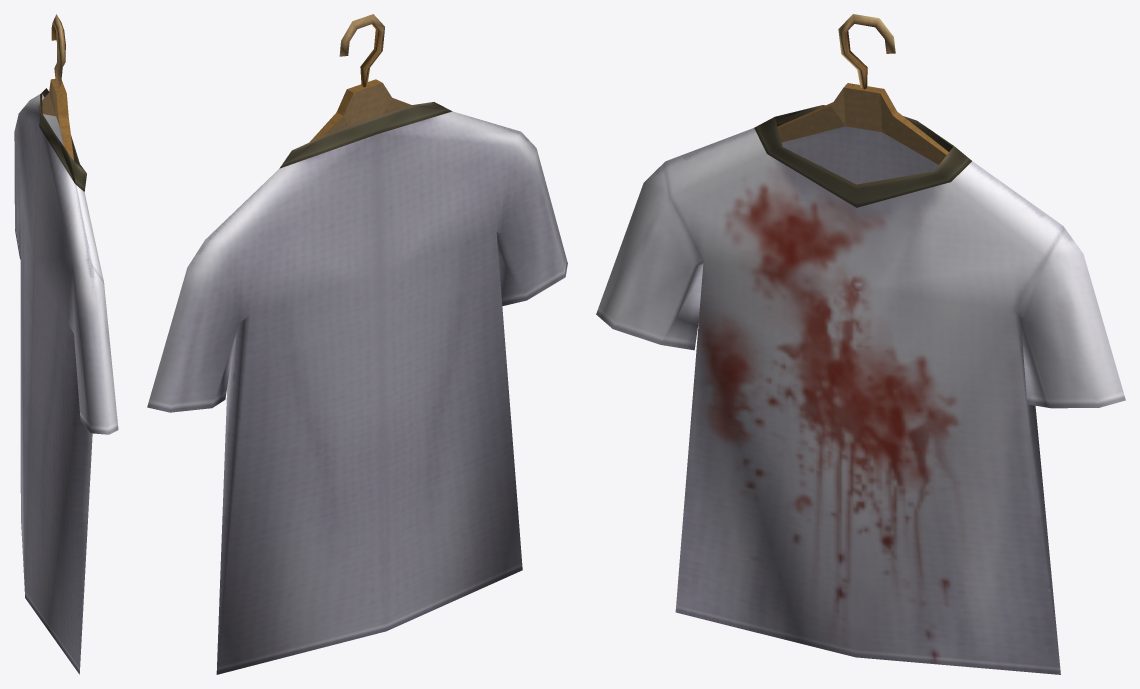
File: ShaShouJia_01_Txu_01.FBX
3 views of the same model, side by side, from view 1: azimuth 30°, elevation 25°; view 2: azimuth 150°, elevation 25°; view 3: azimuth 270°, elevation 25° (orthographic). The views are drawn at different scales.
Visible parts, largest first — view 1: ShaShouJia_01_Txu_01; view 2: ShaShouJia_01_Txu_01; view 3: ShaShouJia_01_Txu_01.
Part boxes in pixels (<box>): ShaShouJia_01_Txu_01: <box>14,14,118,674</box>; ShaShouJia_01_Txu_01: <box>147,14,567,674</box>; ShaShouJia_01_Txu_01: <box>596,14,1125,674</box>.
Size of the model in its own units: 185 by 589 by 448.
